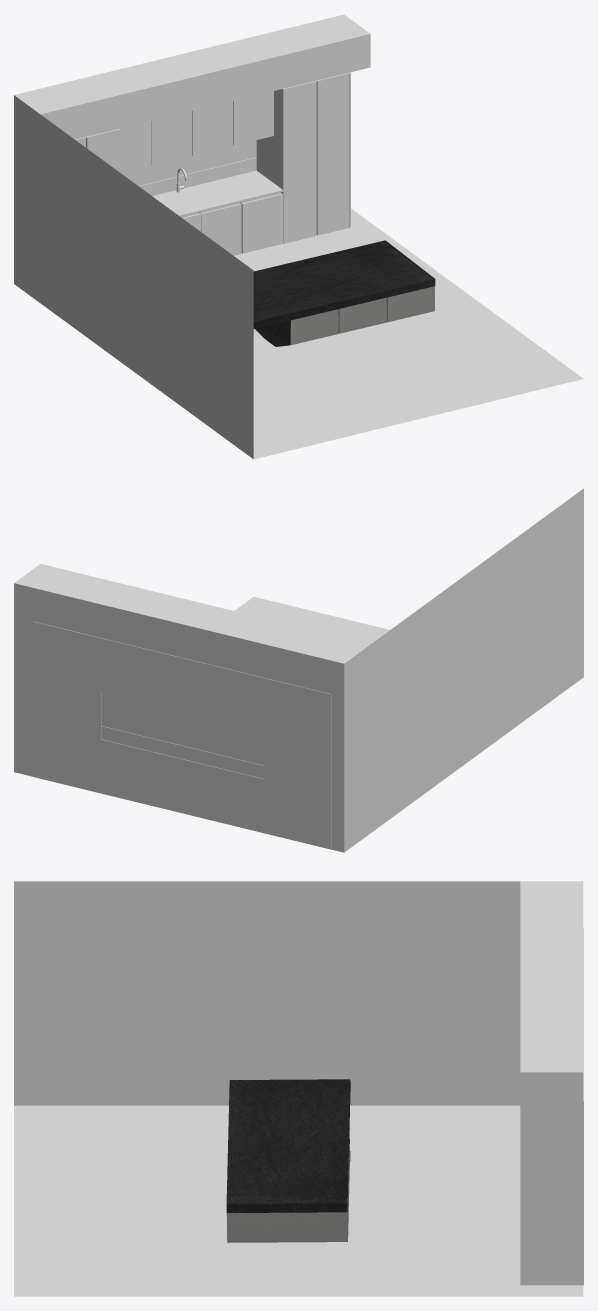
The model's file is kitchen.glb.
The picture shows the model from 3 angles, top to bottom: view 1: azimuth 30°, elevation 25°; view 2: azimuth 150°, elevation 25°; view 3: azimuth 270°, elevation 25°; orthographic projection. The views are drawn at different scales.
Parts seen in each view (by area): view 1: Cube, Cube.005, Cube.016, Cube.007, Cube.011, Cube.013, Cube.014, Cube.015, Cube.010, Cube.012, Cube.017, Cube.018 (+2 smaller); view 2: Cube, Cube.005, Cube.003, Cube.002, Cube.004; view 3: Cube, Cube.016, Cube.005, Cube.019.
Part boxes in pixels (x1=…): Cube: x1=14, y1=14, x2=583, y2=459; Cube.005: x1=256, y1=72, x2=350, y2=243; Cube.016: x1=253, y1=240, x2=435, y2=346; Cube.007: x1=152, y1=170, x2=283, y2=216; Cube.011: x1=241, y1=193, x2=282, y2=253; Cube.013: x1=151, y1=111, x2=192, y2=165; Cube.014: x1=192, y1=101, x2=232, y2=155; Cube.015: x1=233, y1=91, x2=273, y2=145; Cube.010: x1=200, y1=203, x2=241, y2=255; Cube.012: x1=120, y1=121, x2=151, y2=172; Cube.017: x1=290, y1=309, x2=338, y2=345; Cube.018: x1=338, y1=297, x2=386, y2=333; Cube: x1=14, y1=488, x2=583, y2=852; Cube.005: x1=33, y1=621, x2=101, y2=793; Cube.003: x1=264, y1=678, x2=331, y2=849; Cube.002: x1=101, y1=638, x2=263, y2=730; Cube.004: x1=101, y1=741, x2=263, y2=833; Cube: x1=14, y1=881, x2=583, y2=1296; Cube.016: x1=226, y1=1079, x2=350, y2=1212; Cube.005: x1=520, y1=1061, x2=583, y2=1285; Cube.019: x1=226, y1=1184, x2=348, y2=1242.
Size of the model in its own units: 9.88 by 5.44 by 12.44.
Materials: 6 (5 with a texture image).
